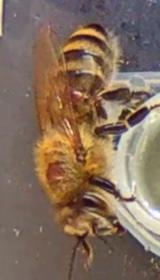varroa_mite: (53, 81, 92, 112), (42, 154, 73, 186)
